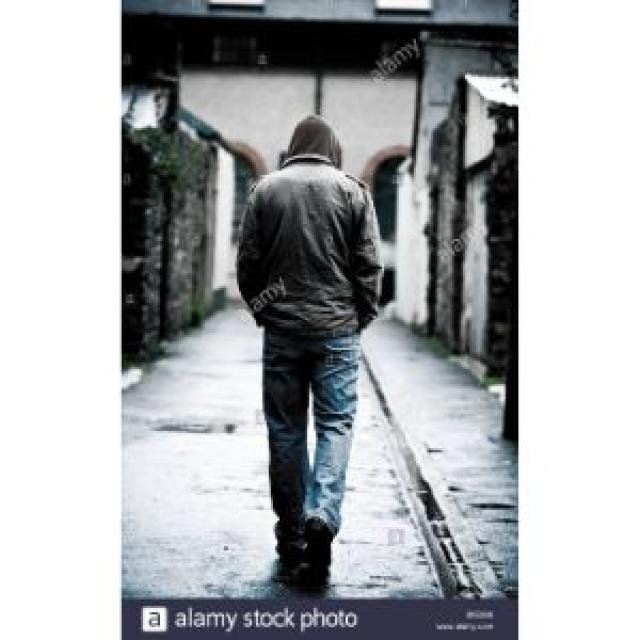nonfall: (226, 120, 396, 588)
